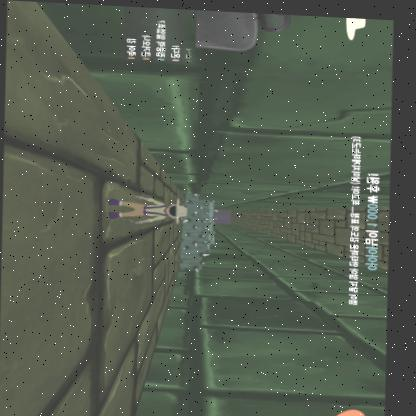donation: (348, 132, 381, 302)
